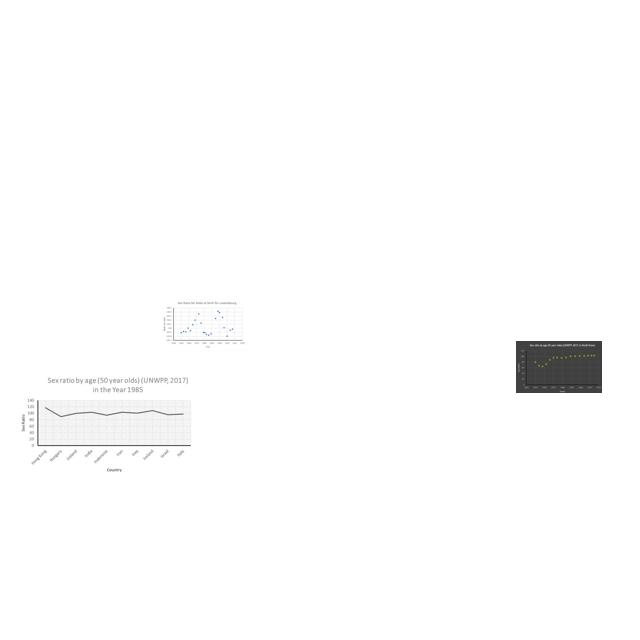Graph: (16, 374, 195, 474), (160, 299, 247, 351), (516, 341, 602, 393)
